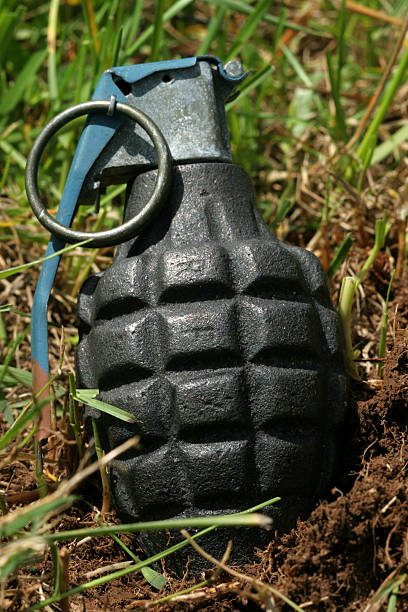e1: (22, 54, 372, 554)
